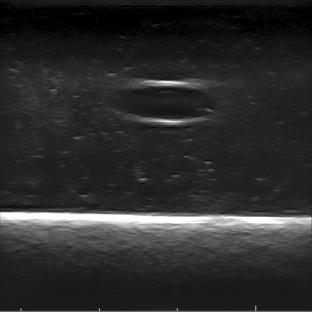vessel: (111, 80, 217, 126)
